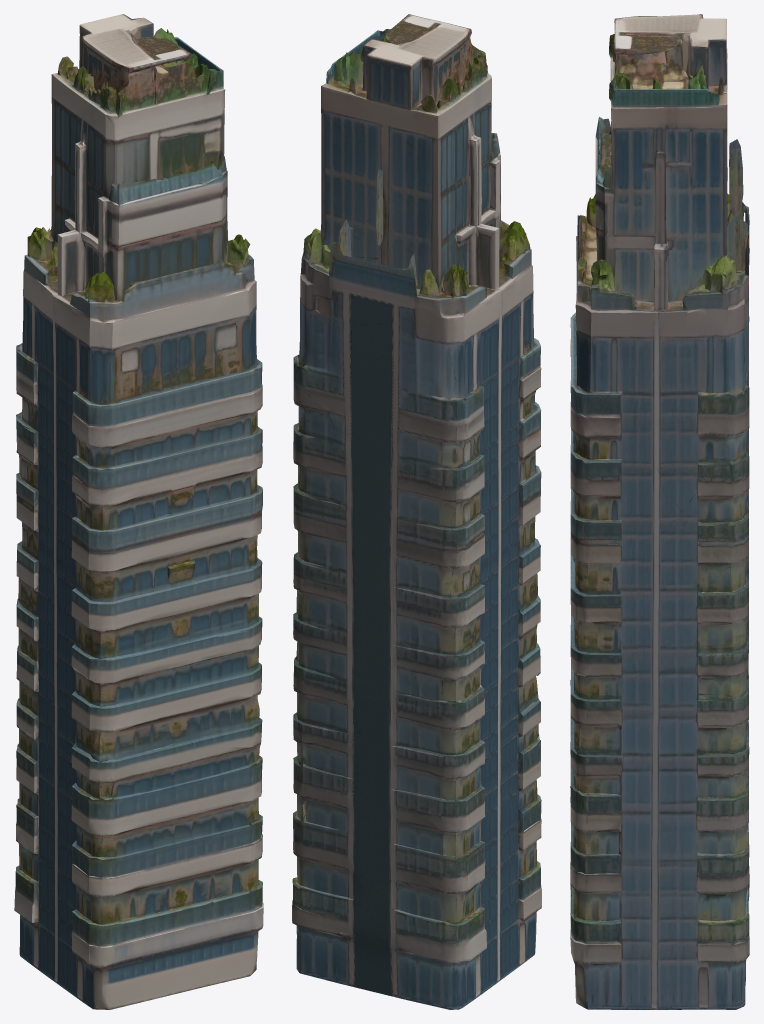
File: r3_glass_setback_a.glb
3 views of the same model, side by side, from view 1: azimuth 30°, elevation 25°; view 2: azimuth 150°, elevation 25°; view 3: azimuth 270°, elevation 25° (orthographic).
Visible parts, largest first — view 1: geometry_0; view 2: geometry_0; view 3: geometry_0.
Part boxes in pixels (x1=…): geometry_0: x1=14, y1=14, x2=263, y2=1009; geometry_0: x1=292, y1=14, x2=541, y2=1009; geometry_0: x1=570, y1=14, x2=749, y2=1009.
Bounding box in the file's own units: 30 × 150 × 26.
Materials: 1 (1 with a texture image).
